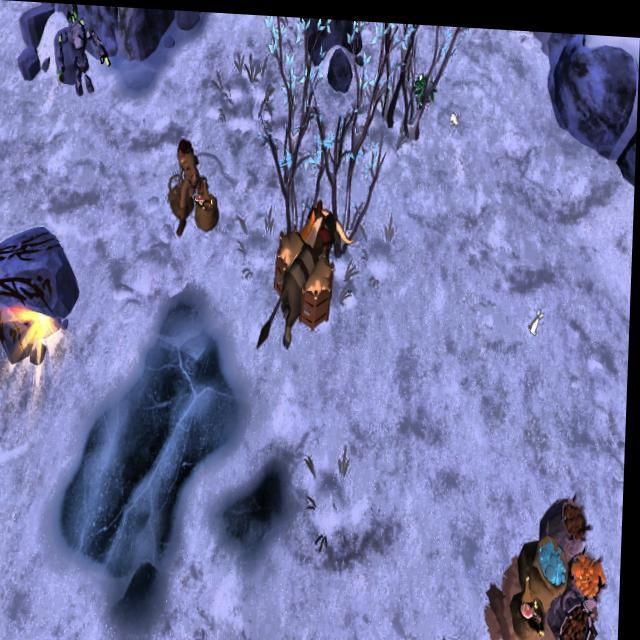enemy_factionKeeper: (172, 129, 206, 225)
fiber_t3: (411, 64, 436, 100)
